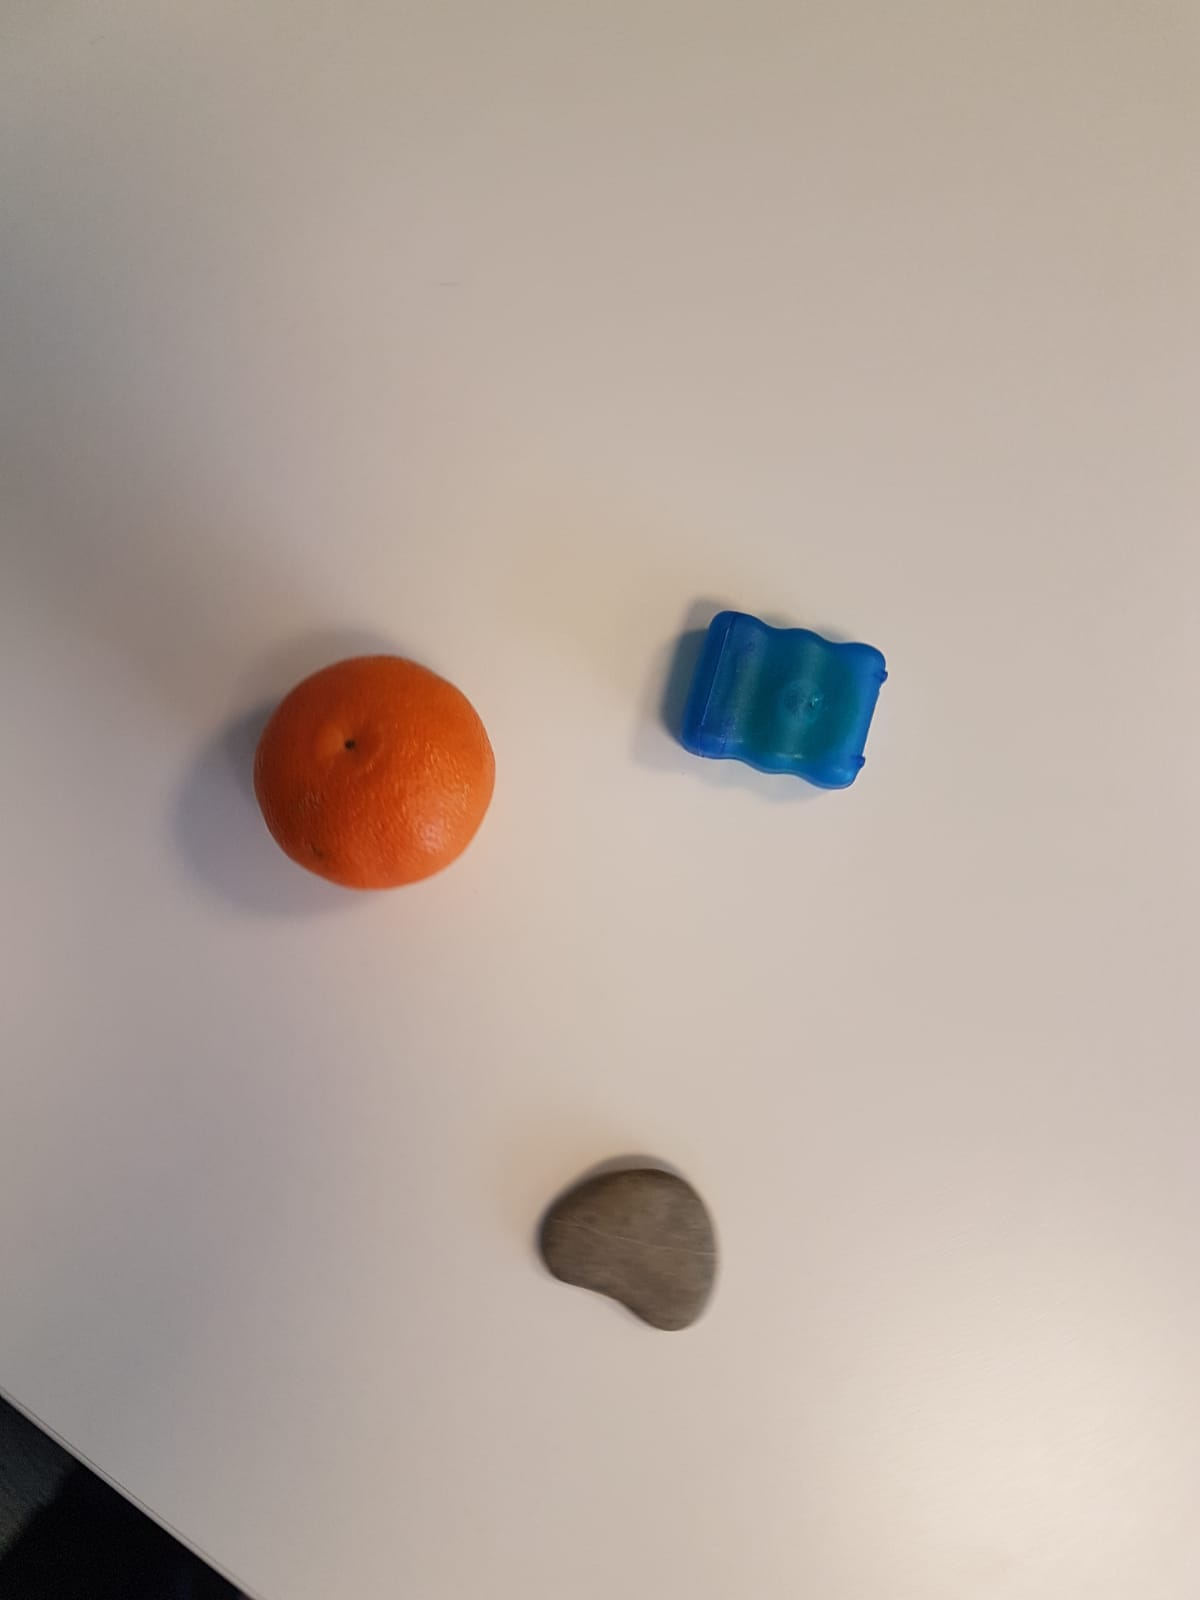Box: (683, 605, 889, 794)
Orange: (258, 656, 500, 892)
Stone: (529, 1167, 717, 1333)
